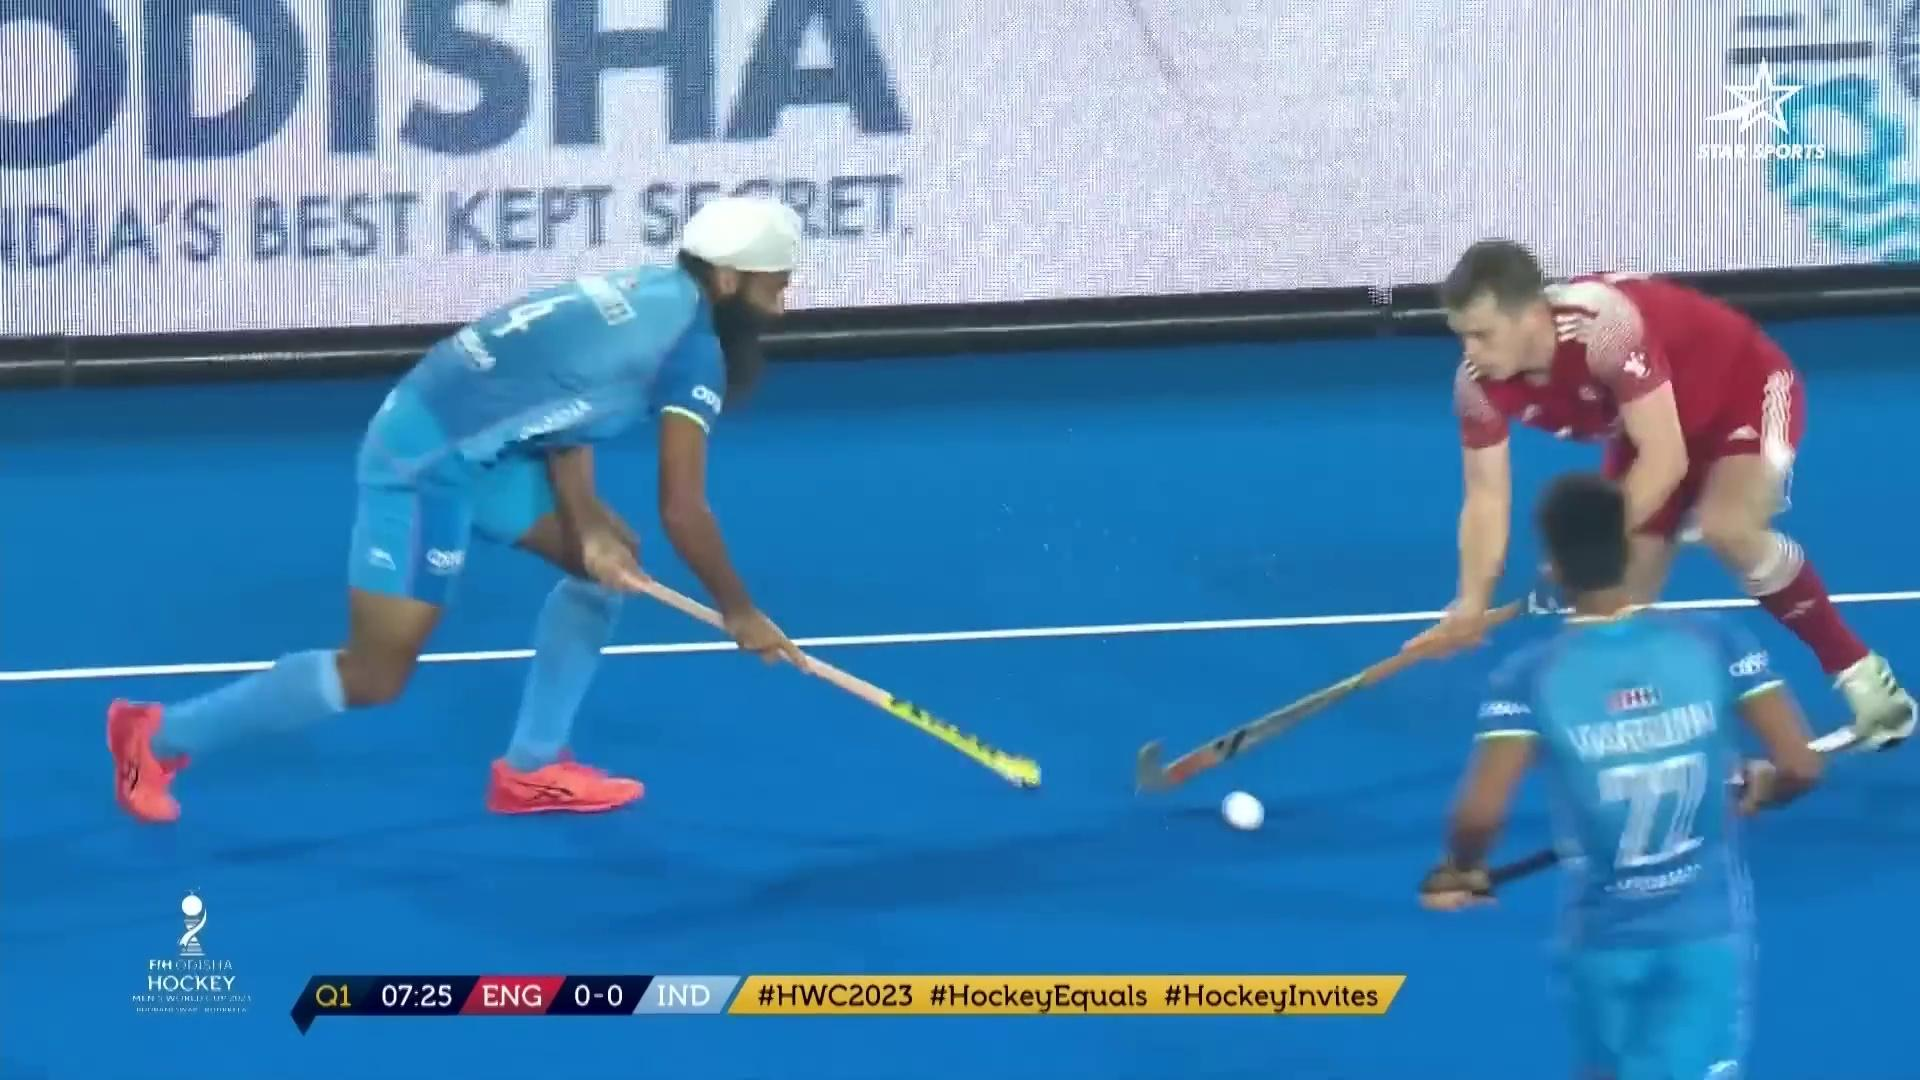ball: (1203, 774, 1290, 848)
